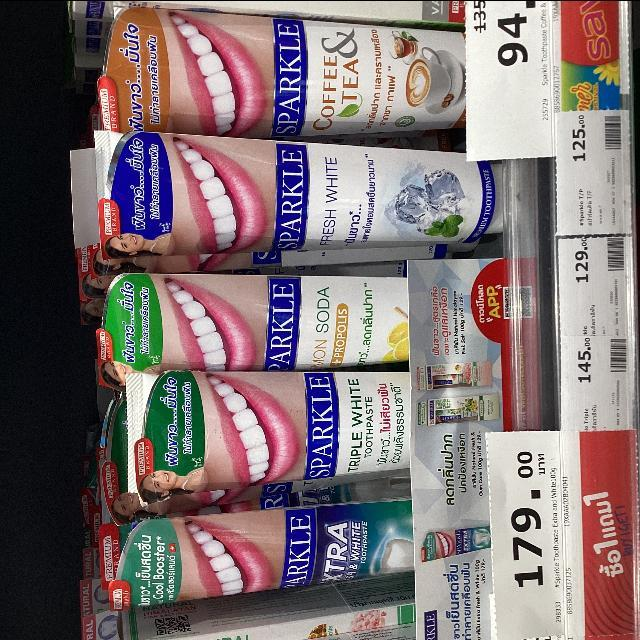Squeeze Tube: (54, 3, 537, 630), (91, 127, 510, 269), (111, 21, 465, 144), (127, 364, 416, 502), (99, 267, 414, 367), (118, 491, 411, 596)
